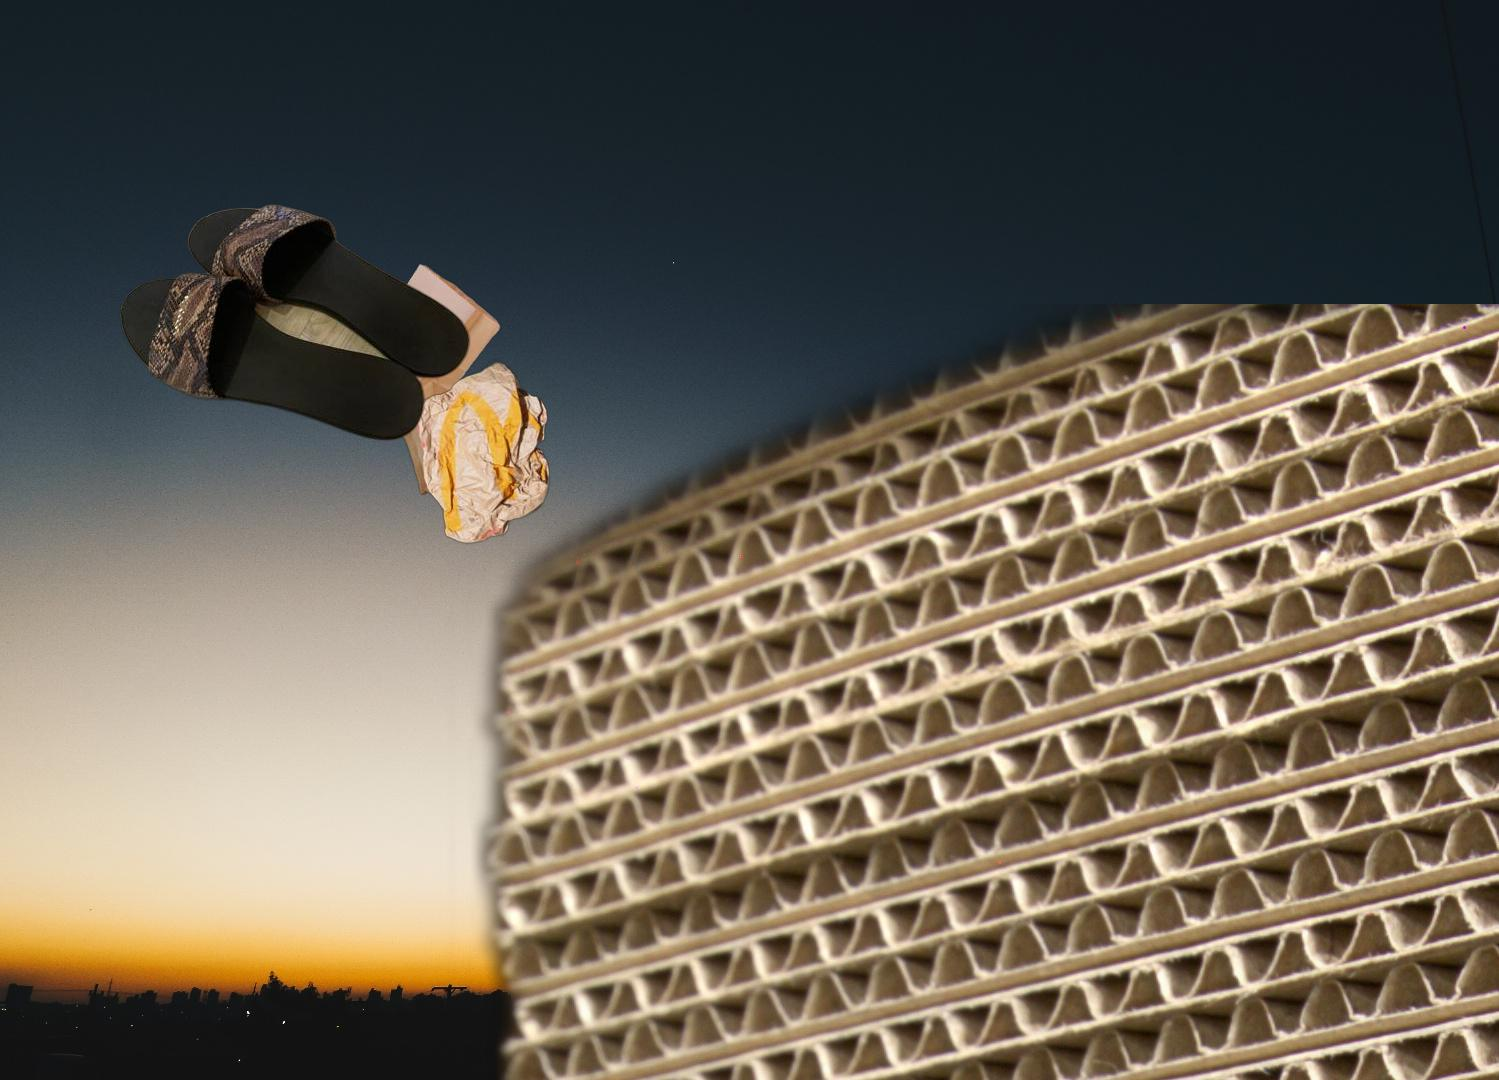battery: (1047, 351, 1307, 449)
paper-bag: (392, 356, 553, 547), (362, 261, 505, 411)
plastic-bag: (1352, 516, 1499, 691)
shoes: (116, 201, 474, 445)
trashbox-cardboard: (446, 304, 1499, 1080)
